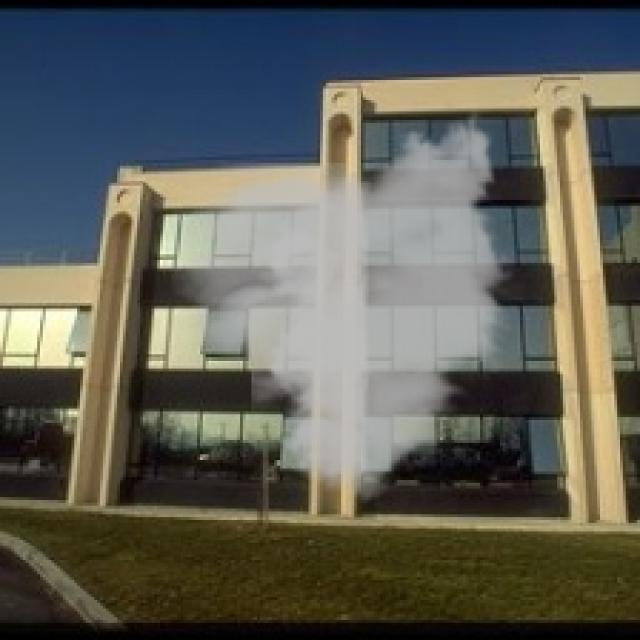smoke: (172, 100, 517, 514)
